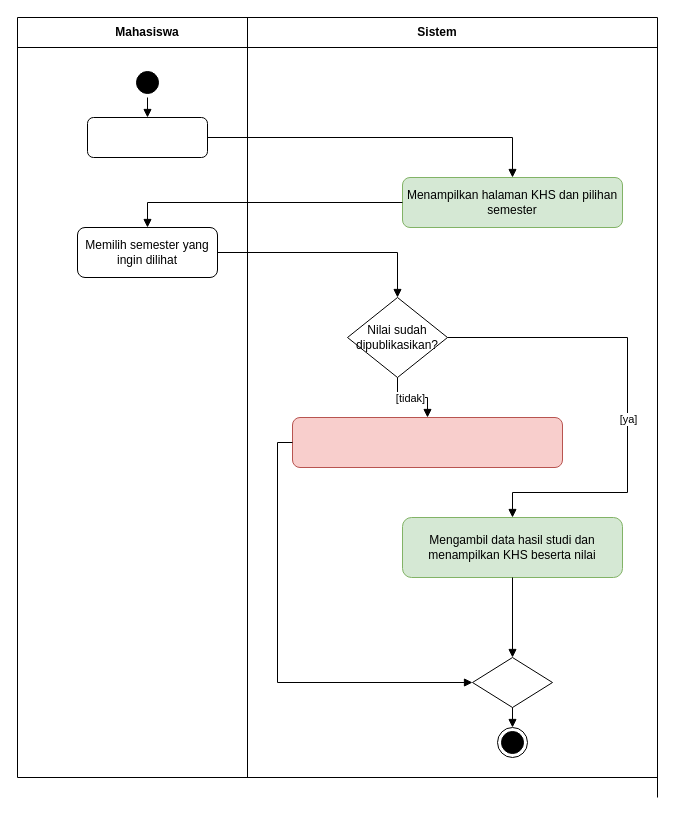
Some shapes in this 676 by 816 pixel diagram are drawn without their labels. The centre of each missing label's shape, as x and y in pixels:
Membuka menu KHS: [147,137]
Menampilkan informasi bahwa nilai KHS belum tersedia atau belum dipublikasikan: [427,442]
